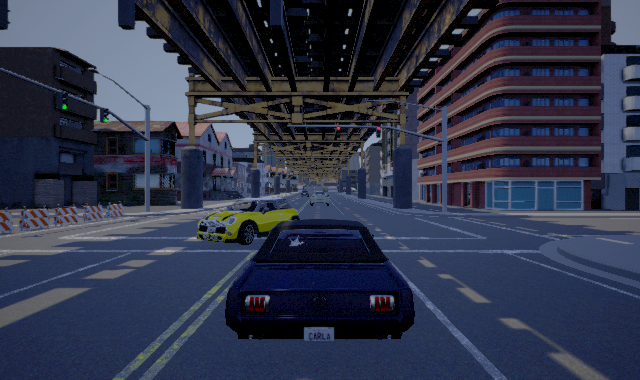traffic_light: (58, 92, 68, 111), (100, 108, 109, 123), (376, 126, 381, 138), (337, 126, 340, 138)
vehicle: (236, 220, 415, 341), (192, 194, 303, 247), (308, 190, 333, 207)
